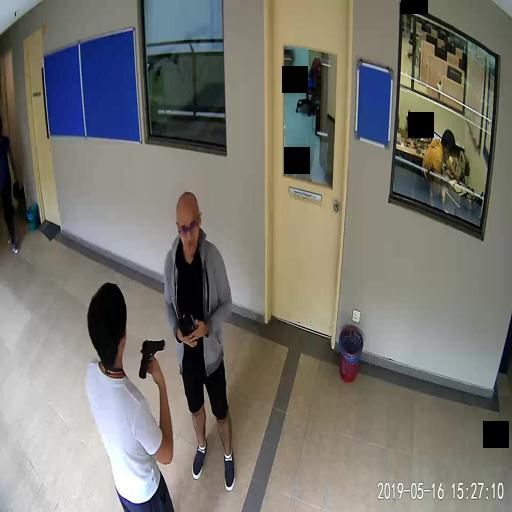Handgun: (139, 338, 164, 377)
